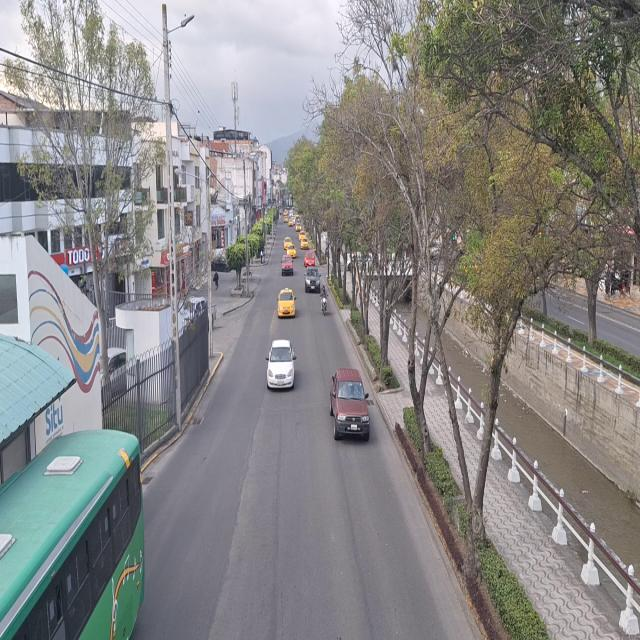MOTORCYCLE: (321, 294, 328, 317)
